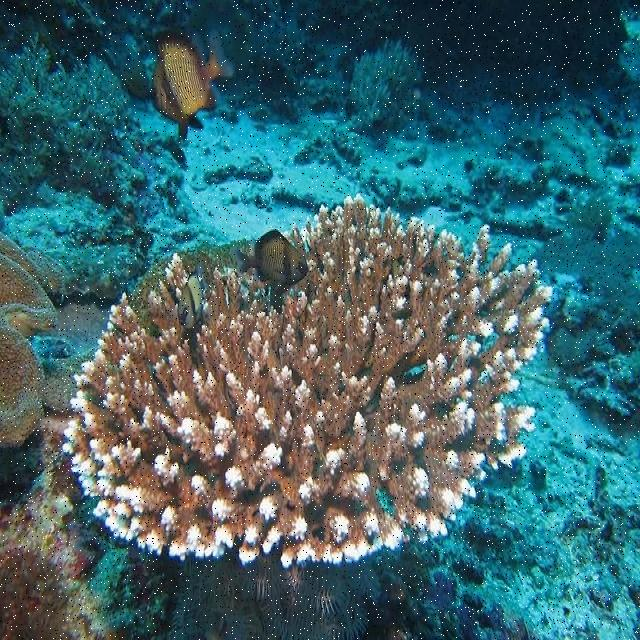fish: (150, 30, 234, 140), (236, 228, 307, 306), (178, 264, 209, 331)
reefs: (64, 193, 554, 566), (1, 33, 131, 193), (1, 232, 94, 445), (540, 201, 639, 368), (350, 41, 423, 129)
